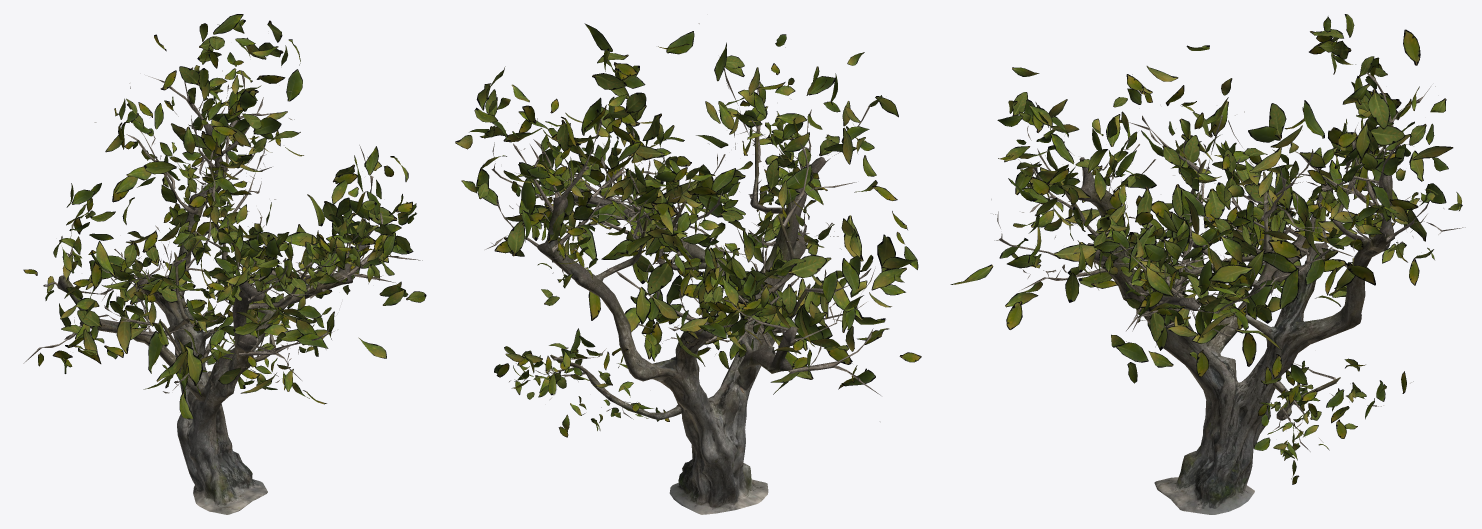
3 renders of one model, left to right at view 1: azimuth 30°, elevation 25°; view 2: azimuth 150°, elevation 25°; view 3: azimuth 270°, elevation 25°, orthographic. The views are drawn at different scales.
Parts seen in each view (by area): view 1: island_tree_01_LOD0; view 2: island_tree_01_LOD0; view 3: island_tree_01_LOD0.
Part boxes in pixels (left/top/right/bottom): island_tree_01_LOD0: left=23, top=14, right=426, bottom=514; island_tree_01_LOD0: left=455, top=23, right=921, bottom=514; island_tree_01_LOD0: left=950, top=14, right=1465, bottom=514.
Bounding box in the file's own units: 4.61 × 5.08 × 4.64.
3 materials, 3 textured.
